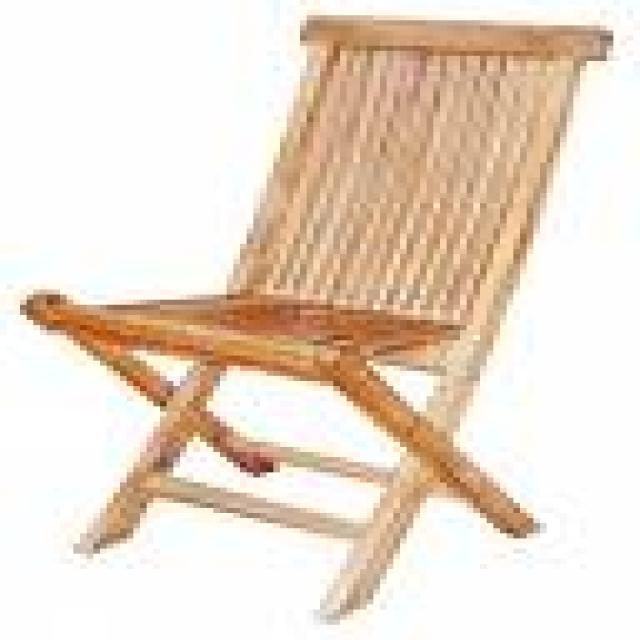chair: (20, 13, 616, 624)
